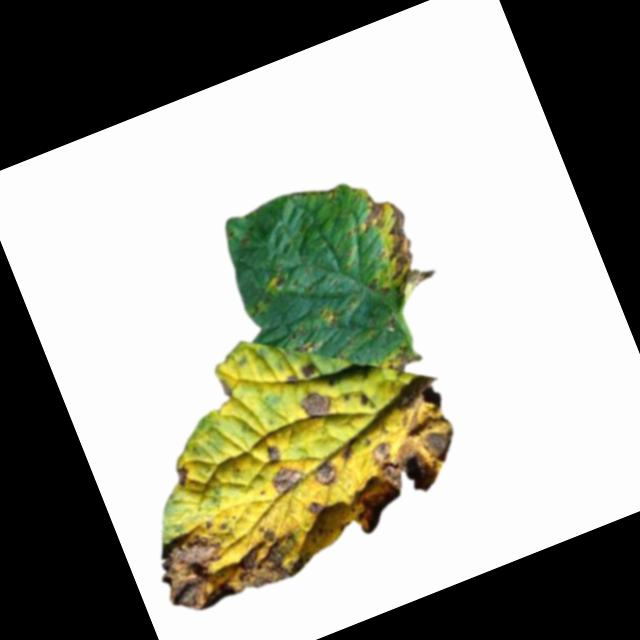Early_blight: (319, 382, 478, 536), (139, 492, 309, 625), (351, 178, 443, 308), (377, 339, 425, 377), (296, 386, 335, 423), (266, 462, 306, 496), (307, 457, 339, 490), (170, 461, 194, 488), (261, 441, 284, 466), (297, 359, 321, 380), (269, 270, 290, 290), (304, 497, 324, 516)
